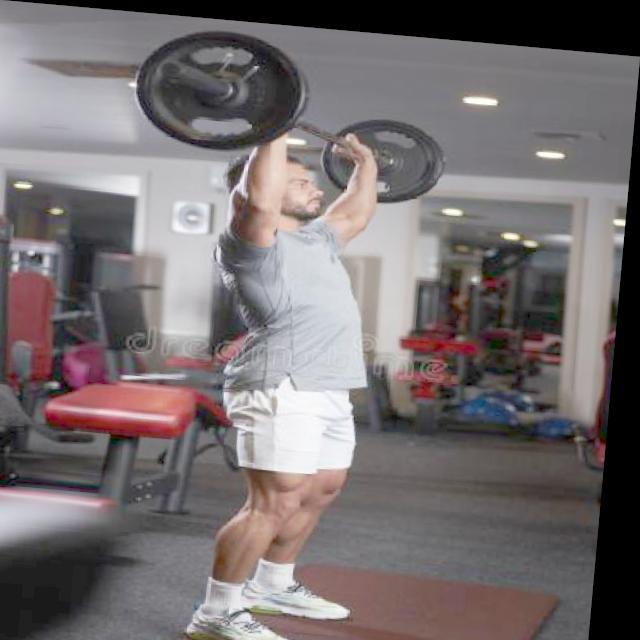barbell: (127, 14, 318, 156)
